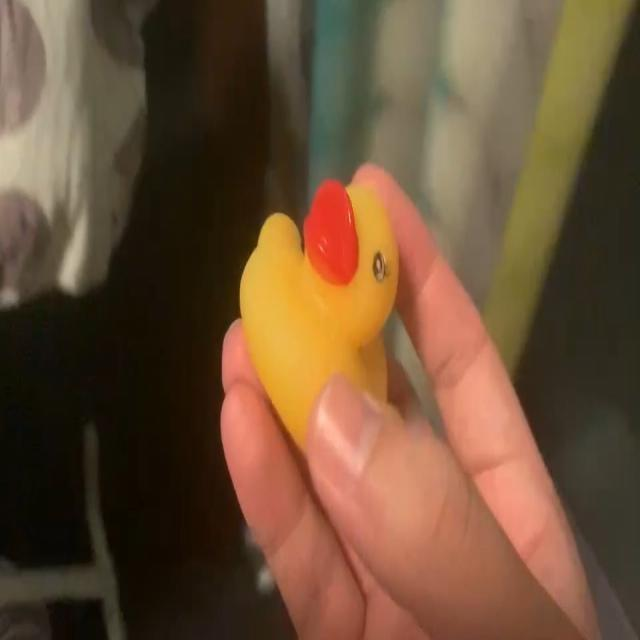rubber-duck: (239, 179, 396, 445)
